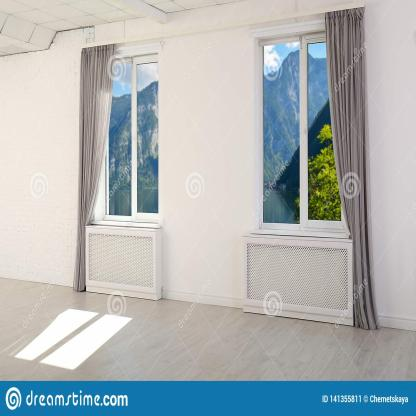Window: (248, 14, 358, 237), (79, 52, 161, 225)
